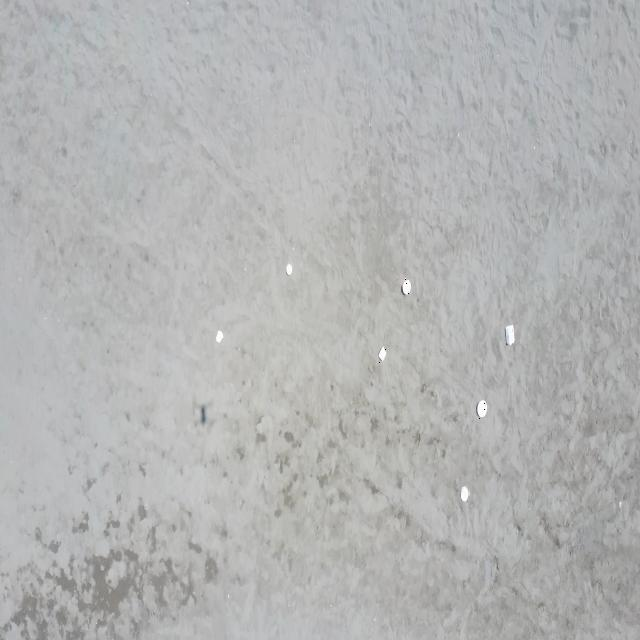take-away-containers: (476, 399, 488, 419), (401, 278, 412, 296), (506, 325, 514, 345), (378, 346, 386, 363), (216, 330, 224, 344), (462, 487, 469, 503), (286, 263, 292, 276)
